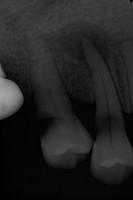Furcation Involvement: (59, 22, 112, 67)
